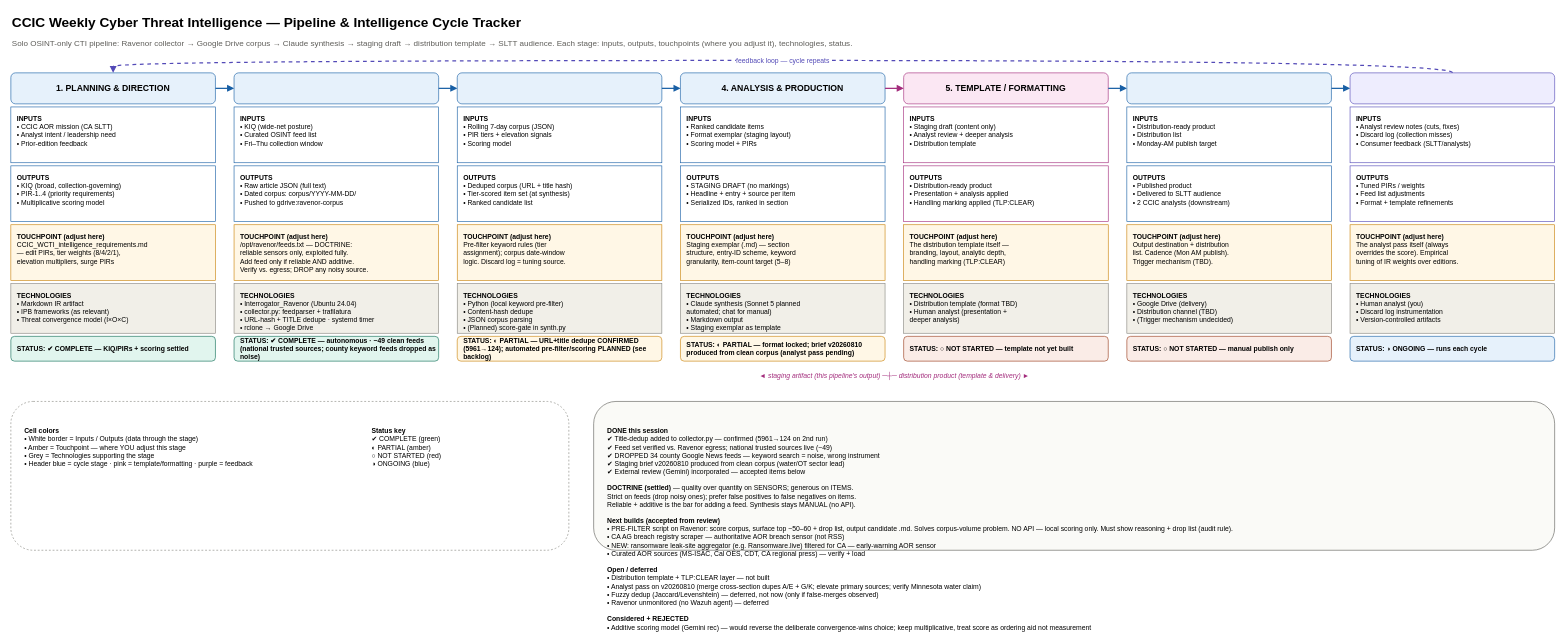
Image size: 1566x642. Some labels were removed from this diagram. The box of each missing label's shape, as (x1, y1, x2, y2) in pixels:
2. COLLECTION: (233, 72, 439, 104)
3. PROCESSING & EXPLOITATION: (457, 72, 662, 104)
6. DISSEMINATION: (1126, 72, 1331, 104)
7. FEEDBACK & EVALUATION: (1349, 72, 1555, 104)
Legend: (10, 401, 569, 550)
Open Items / Backlog (tracker): (593, 401, 1555, 550)
